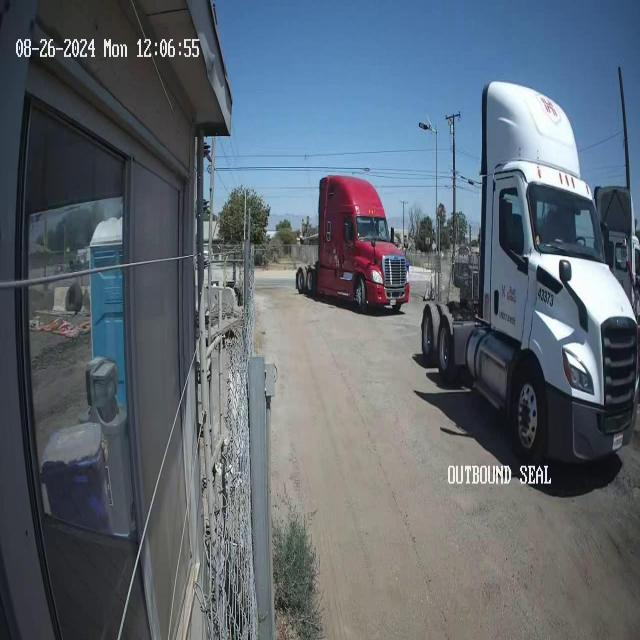TRUCK_IN: (421, 77, 638, 471)
